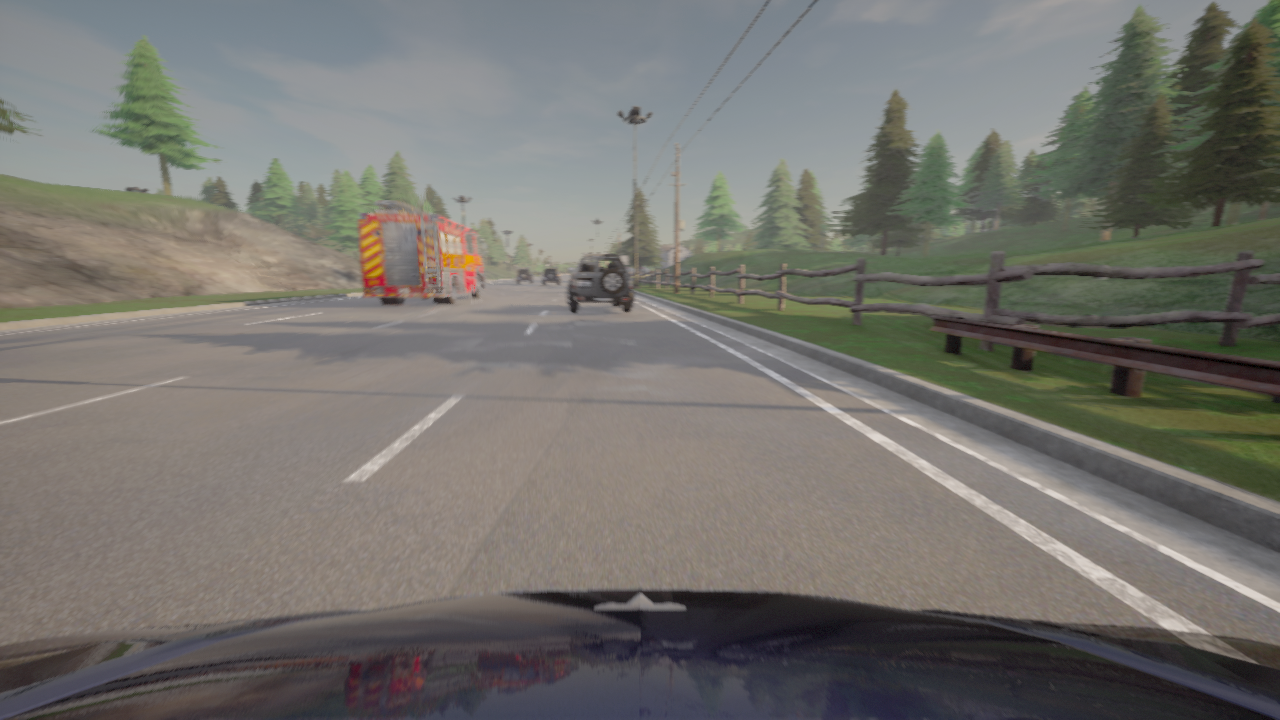cyclist: (0, 588, 1279, 719), (358, 200, 486, 304), (566, 253, 633, 312), (541, 267, 560, 284), (516, 268, 533, 283)
